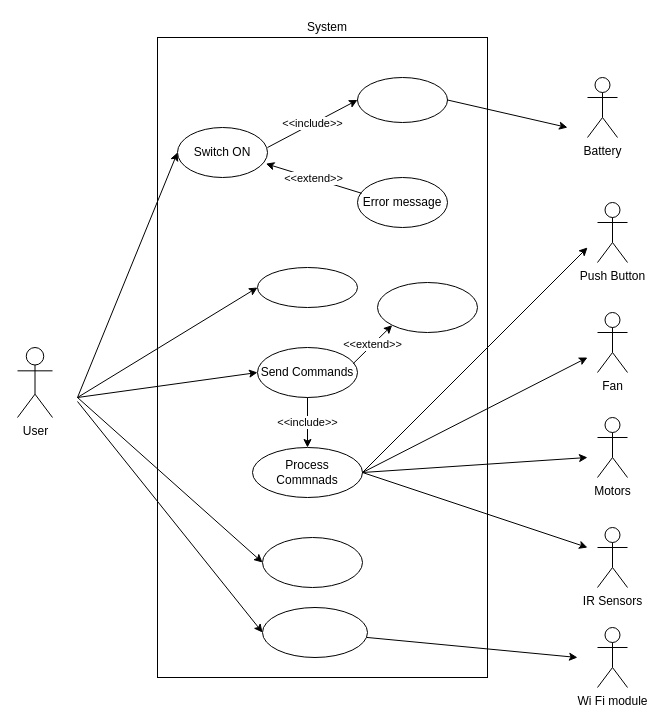
This 665x725 diagram has some shape labels left out. Each missing label, with the centre of its shape:
"Android App" goes at (x=315, y=632).
"Check Battery" goes at (x=402, y=99).
"Dust Chamber" goes at (x=307, y=287).
"Report" goes at (x=312, y=562).
"Unrecognized Commands" goes at (x=427, y=307).
